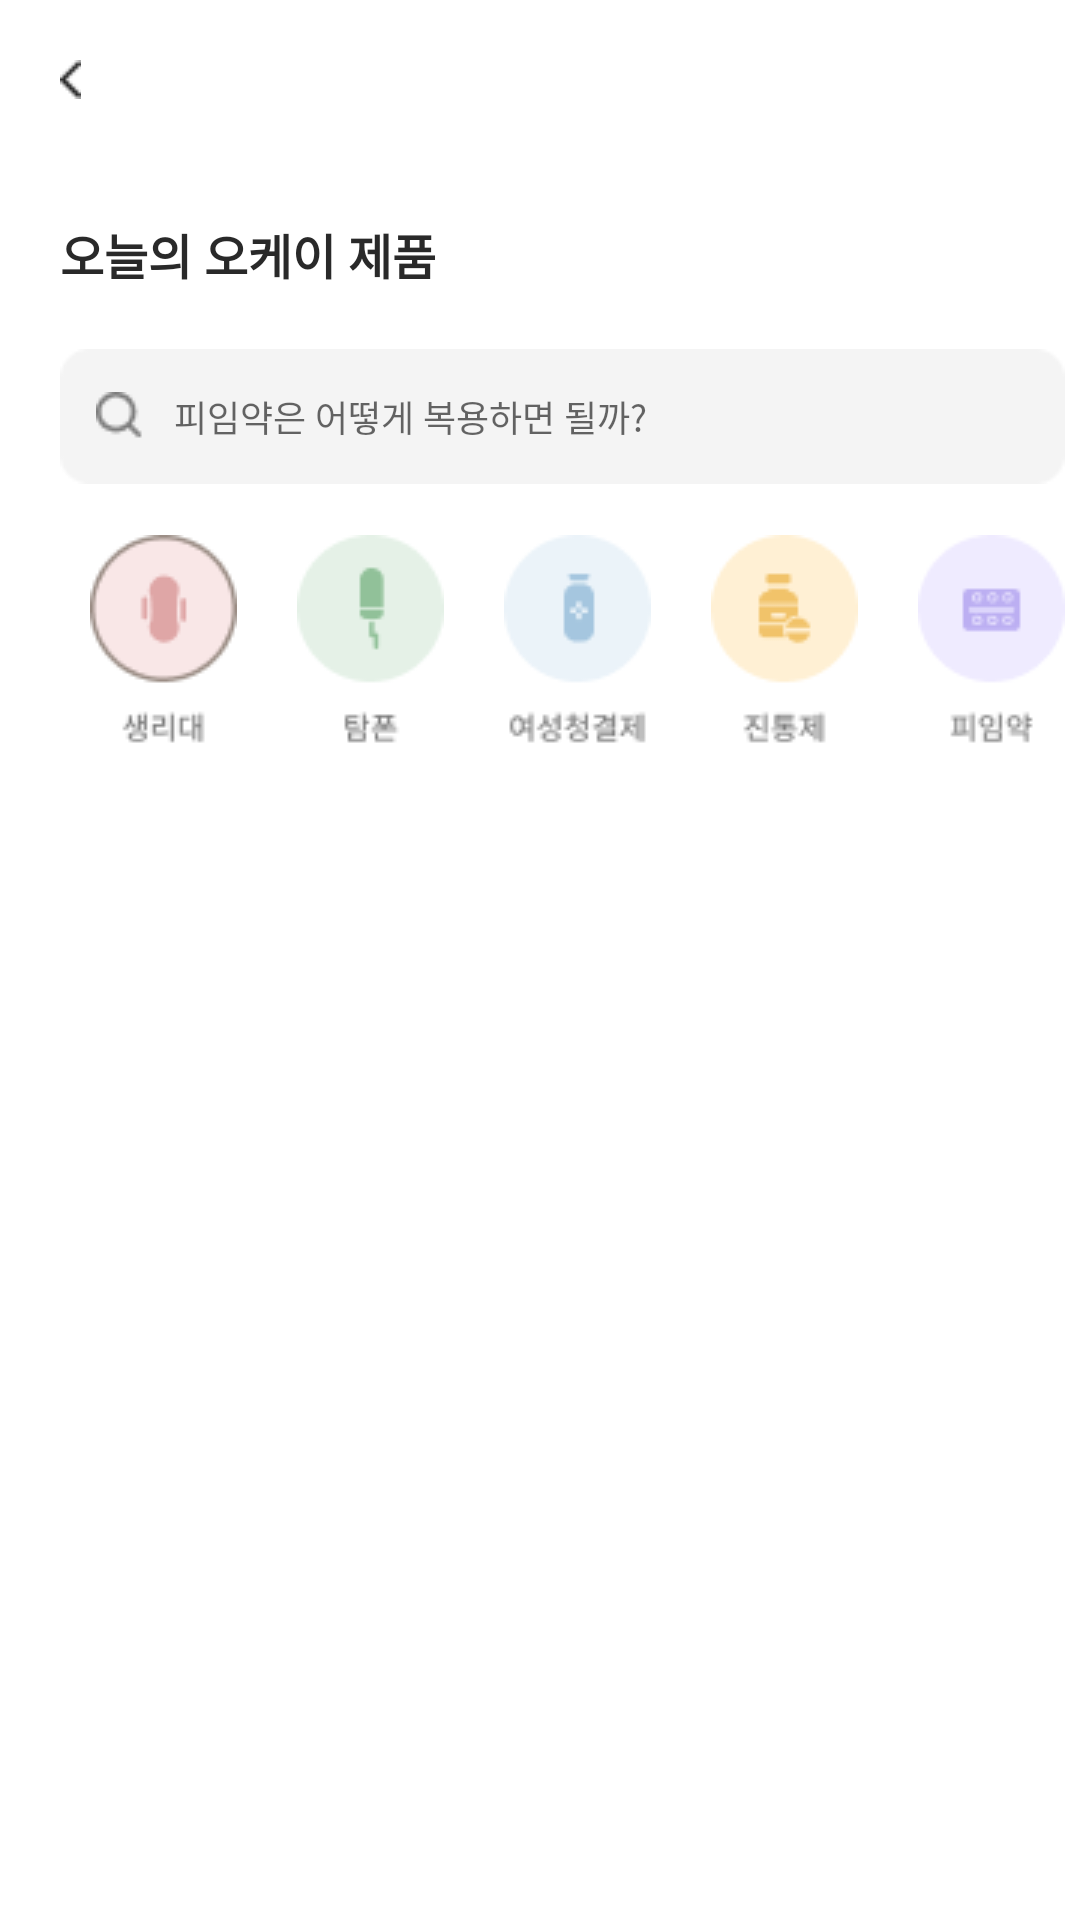

Locate icon controls on the screen. Image size 1080x1920, boxes as rect(x1, y1, x2, y2).
backbutton: rect(60, 60, 81, 99)
